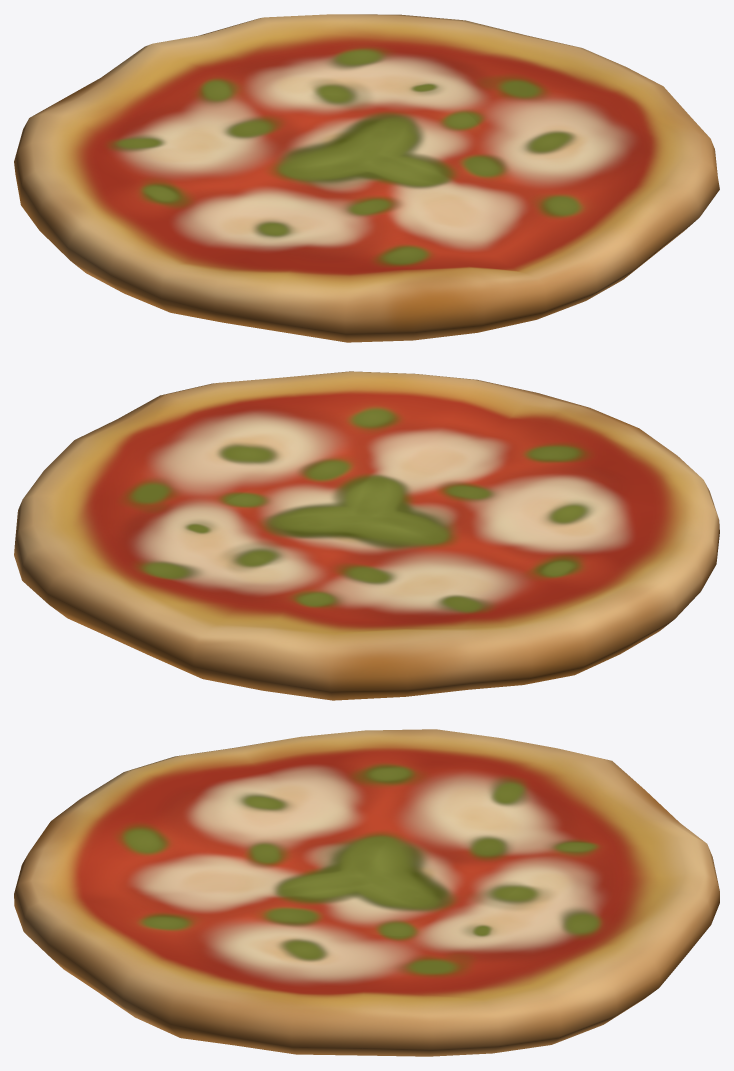
File: Pizza.fbx
The picture shows the model from 3 angles, top to bottom: view 1: azimuth 30°, elevation 25°; view 2: azimuth 150°, elevation 25°; view 3: azimuth 270°, elevation 25°; orthographic projection. The views are drawn at different scales.
Parts seen in each view (by area): view 1: Cylinder; view 2: Cylinder; view 3: Cylinder.
Boxes of the visible parts, x1=… form: Cylinder: x1=14, y1=14, x2=719, y2=342; Cylinder: x1=14, y1=371, x2=719, y2=700; Cylinder: x1=14, y1=729, x2=719, y2=1056.
Size of the model in its own units: 444 by 42.36 by 443.
